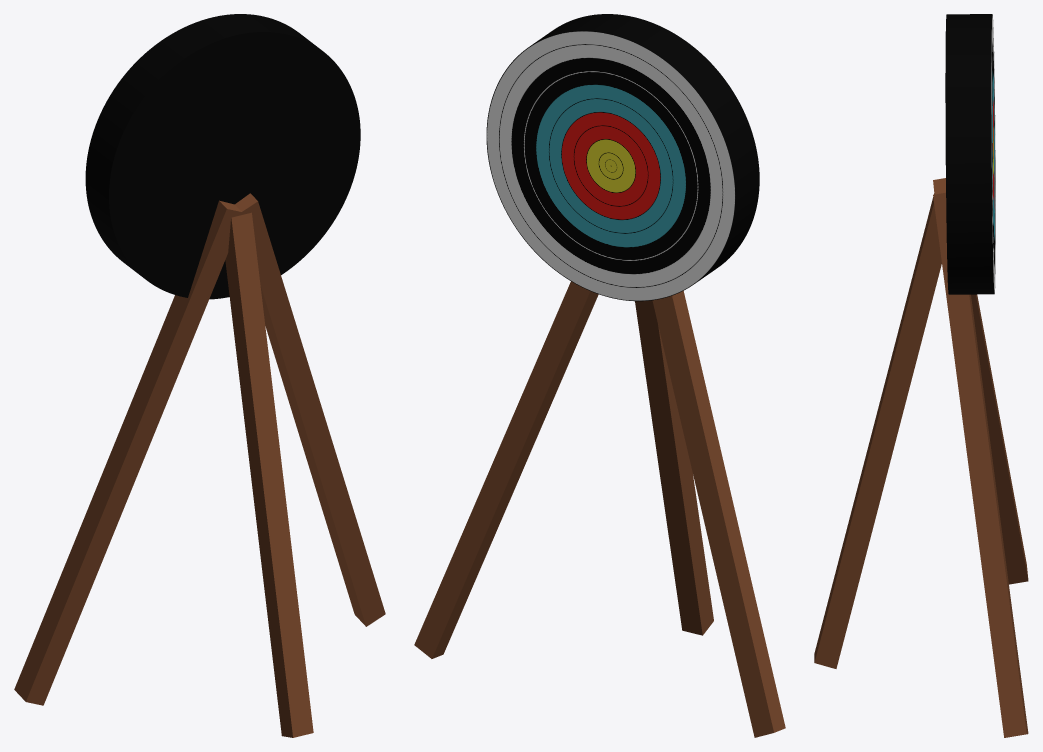
The model's file is Target.fbx.
The picture shows the model from 3 angles, left to right: view 1: azimuth 30°, elevation 25°; view 2: azimuth 150°, elevation 25°; view 3: azimuth 270°, elevation 25°; orthographic projection. The views are drawn at different scales.
Parts seen in each view (by area): view 1: Target_0; view 2: Target_0; view 3: Target_0.
Boxes of the visible parts, <box> form: Target_0: <box>14,14,385,737</box>; Target_0: <box>414,14,785,737</box>; Target_0: <box>814,14,1028,737</box>.
Size of the model in its own units: 351 by 612 by 186.
